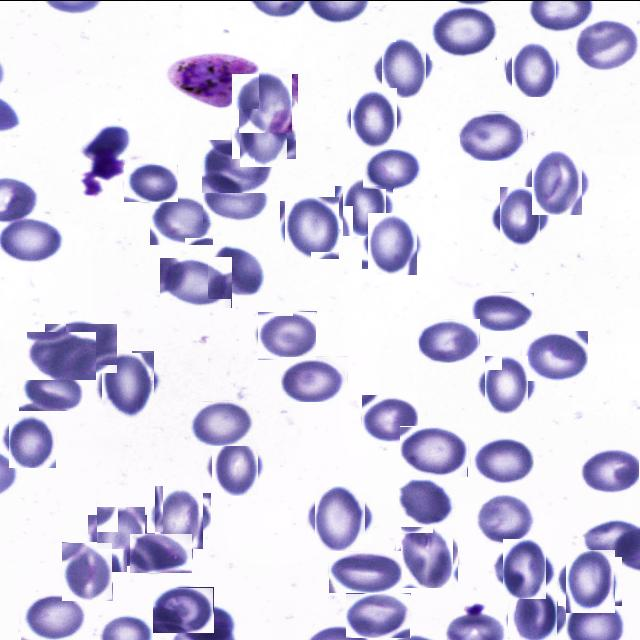red blood cell: (202, 139, 272, 192), (160, 256, 232, 307), (45, 322, 118, 372), (430, 5, 497, 59), (98, 353, 158, 413), (236, 70, 294, 130), (576, 16, 637, 73), (400, 425, 468, 476), (460, 110, 528, 160), (282, 198, 340, 256), (528, 154, 586, 212), (27, 331, 96, 379), (312, 488, 369, 546), (92, 510, 150, 567), (522, 330, 588, 380), (398, 528, 456, 584), (150, 193, 213, 244), (471, 434, 535, 484), (203, 175, 271, 222), (562, 552, 618, 608), (236, 106, 292, 162), (151, 488, 207, 544), (365, 215, 421, 271), (208, 244, 266, 298), (1, 216, 66, 264), (281, 356, 348, 402), (329, 550, 402, 592), (478, 493, 536, 545), (62, 541, 113, 600), (21, 594, 85, 640), (346, 592, 411, 637), (347, 90, 401, 144), (6, 411, 60, 465), (191, 399, 254, 445), (258, 310, 317, 359), (378, 40, 432, 93), (153, 586, 214, 632), (581, 446, 640, 493), (209, 440, 261, 492), (499, 542, 551, 594), (362, 394, 418, 442), (399, 477, 455, 525), (419, 318, 480, 362), (508, 43, 560, 94), (19, 369, 83, 410), (482, 358, 532, 409), (130, 532, 193, 572), (339, 182, 389, 232), (496, 190, 546, 240), (512, 591, 562, 640), (472, 292, 534, 330), (362, 149, 420, 188), (124, 164, 178, 201)
schizont: (166, 53, 259, 108)
